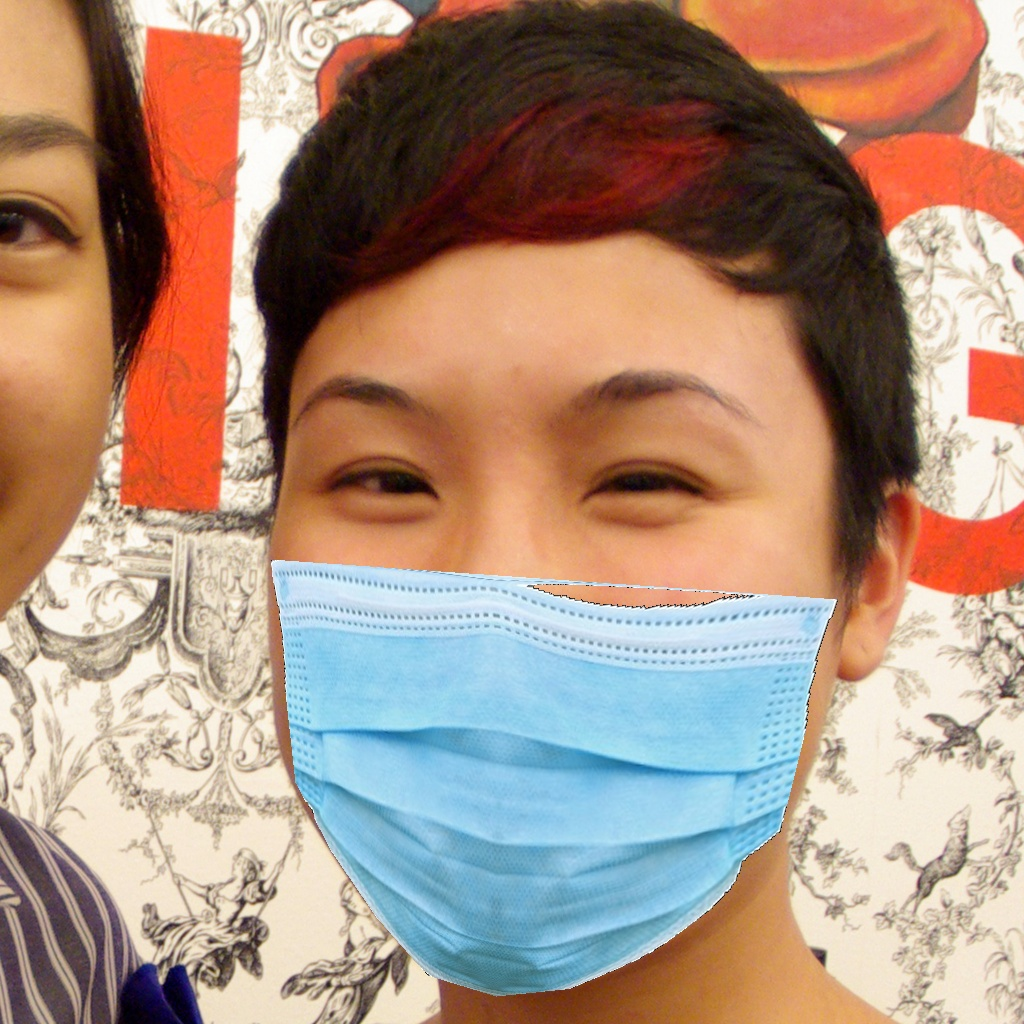with_mask: (278, 345, 836, 995)
